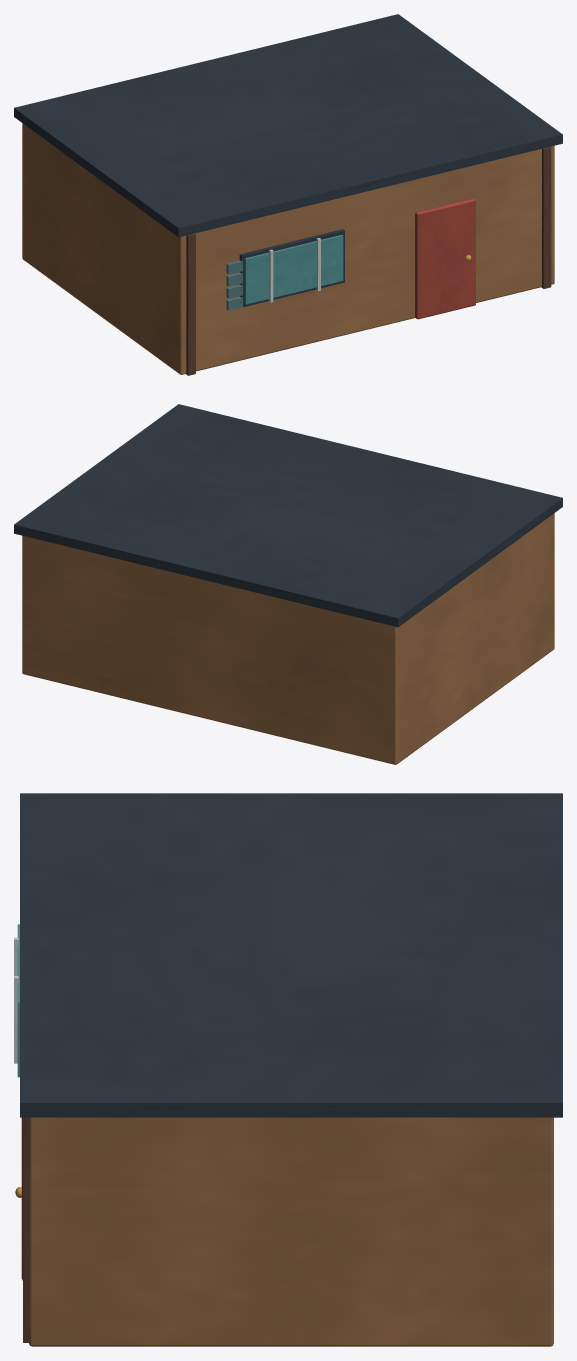
The model's file is HouseB.glb.
3 views of the same model, one above another, from view 1: azimuth 30°, elevation 25°; view 2: azimuth 150°, elevation 25°; view 3: azimuth 270°, elevation 25° (orthographic). The views are drawn at different scales.
Parts seen in each view (by area): view 1: Flat roof, Wall mass, Entry, Glazing, Corner pier.001, Corner pier, Recess; view 2: Wall mass, Flat roof; view 3: Flat roof, Wall mass, Corner pier.001.
Part boxes in pixels (x1,y1,x2,y2): Flat roof: [14, 14, 562, 237]; Wall mass: [22, 123, 554, 374]; Entry: [415, 198, 475, 319]; Glazing: [244, 235, 343, 304]; Corner pier.001: [541, 146, 551, 288]; Corner pier: [186, 233, 195, 375]; Recess: [239, 229, 344, 307]; Wall mass: [22, 513, 554, 764]; Flat roof: [14, 404, 562, 627]; Flat roof: [20, 793, 562, 1117]; Wall mass: [29, 1117, 553, 1346]; Corner pier.001: [23, 1117, 28, 1342].
Size of the model in its own units: 8 by 3 by 6.
8 materials, 8 textured.
